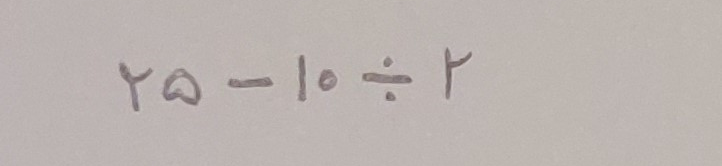character: (363, 57, 414, 103), (119, 62, 155, 113), (444, 47, 473, 103), (298, 54, 324, 113), (162, 68, 201, 106), (227, 76, 275, 87), (318, 69, 338, 92)
